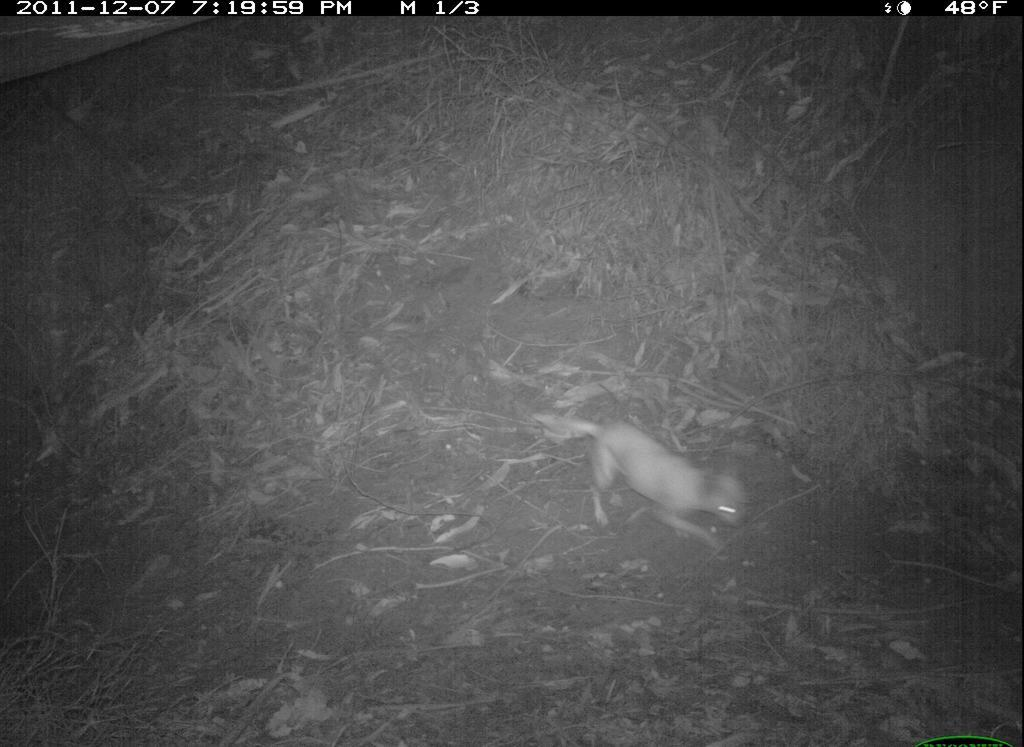dog: (529, 404, 765, 560)
